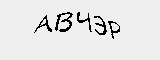А: (32, 15, 52, 35)
В: (56, 10, 74, 36)
Р: (109, 18, 123, 39)
Ч: (75, 11, 94, 33)
Э: (92, 14, 107, 37)
